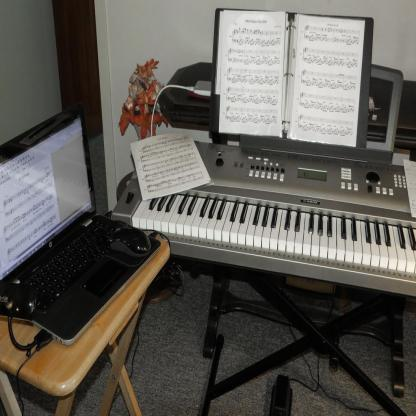board: (0, 101, 162, 346)
